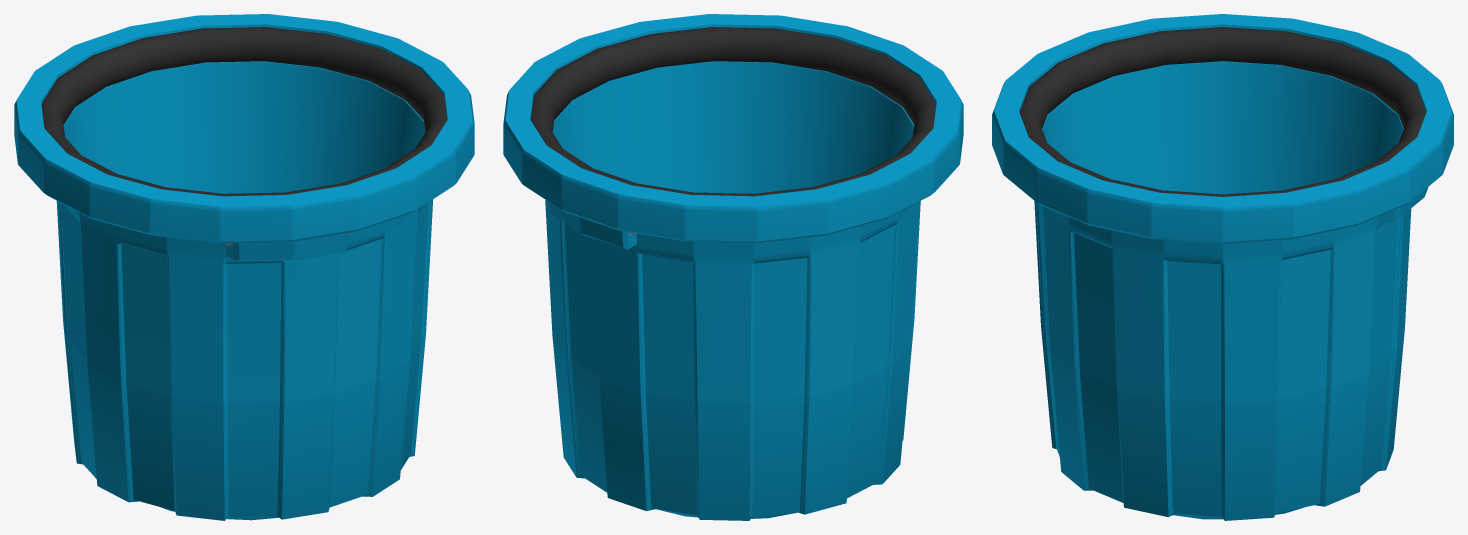
The model's file is Bucket 1.fbx.
3 renders of one model, left to right at view 1: azimuth 30°, elevation 25°; view 2: azimuth 150°, elevation 25°; view 3: azimuth 270°, elevation 25°, orthographic.
Parts seen in each view (by area): view 1: pCylinder7, pTorus1; view 2: pCylinder7, pTorus1; view 3: pCylinder7, pTorus1.
Boxes of the visible parts, <box> form: pCylinder7: <box>14,14,474,520</box>; pTorus1: <box>41,27,447,196</box>; pCylinder7: <box>503,14,963,520</box>; pTorus1: <box>530,27,936,196</box>; pCylinder7: <box>992,14,1453,520</box>; pTorus1: <box>1019,27,1426,196</box>.
Size of the model in its own units: 8.94 by 7.51 by 8.94.
